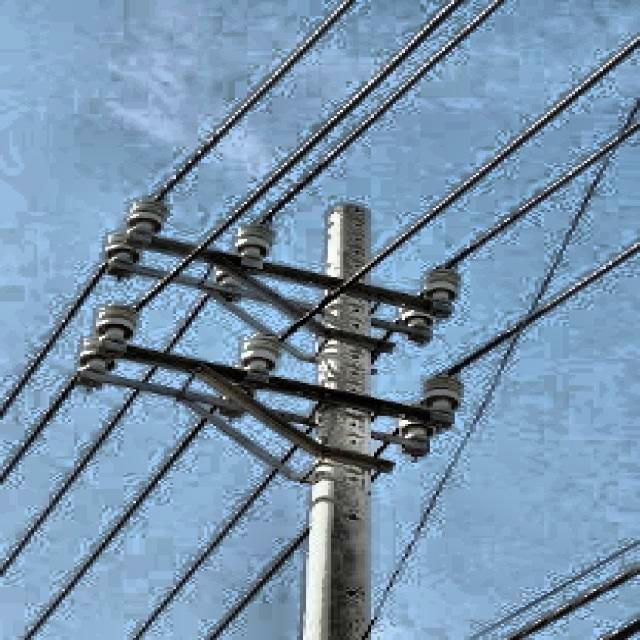crossarm: (99, 333, 463, 461), (124, 228, 453, 312)
pole: (303, 204, 372, 633)
wire: (23, 40, 640, 640), (0, 0, 512, 578), (130, 120, 640, 640), (0, 0, 469, 490), (210, 242, 639, 640), (0, 1, 360, 428)
